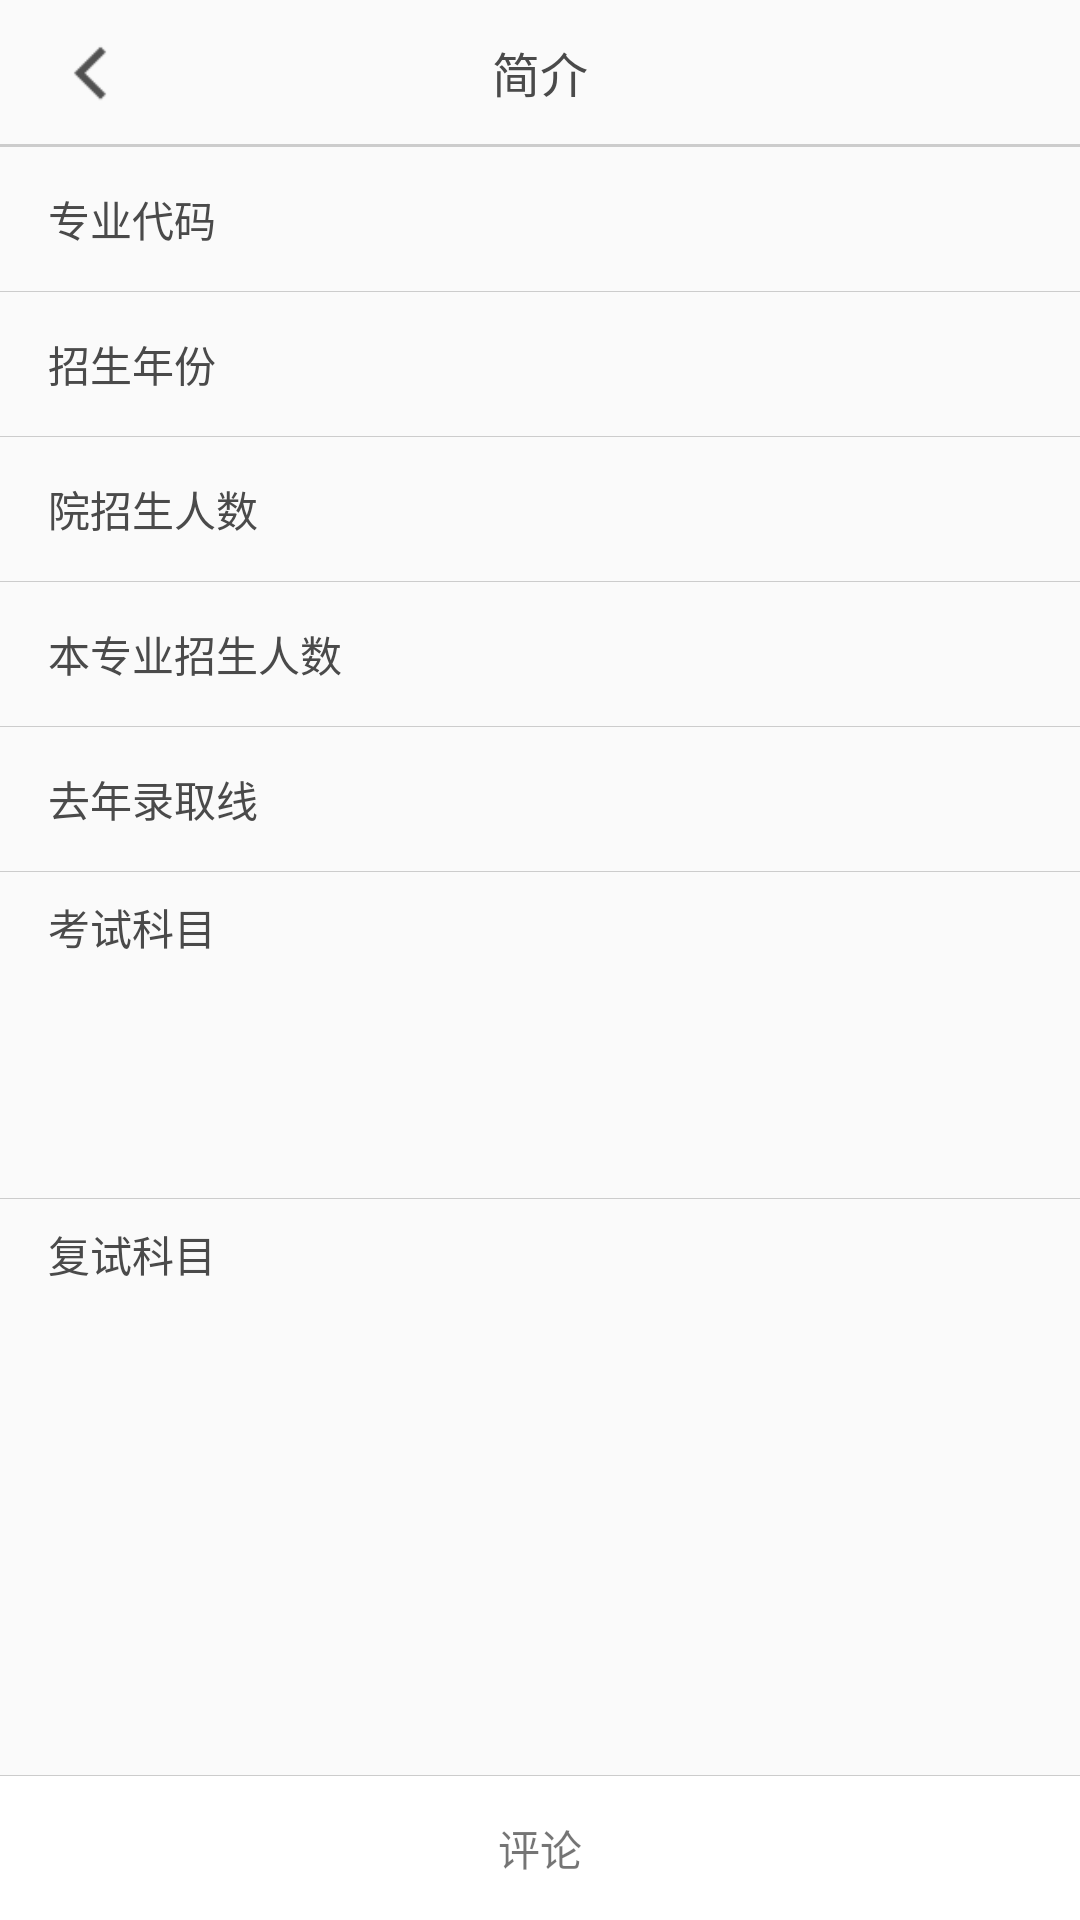

Icons on this 1080*1920 Android screen, each with the point to tap as [x,y]:
back: [90,73]
